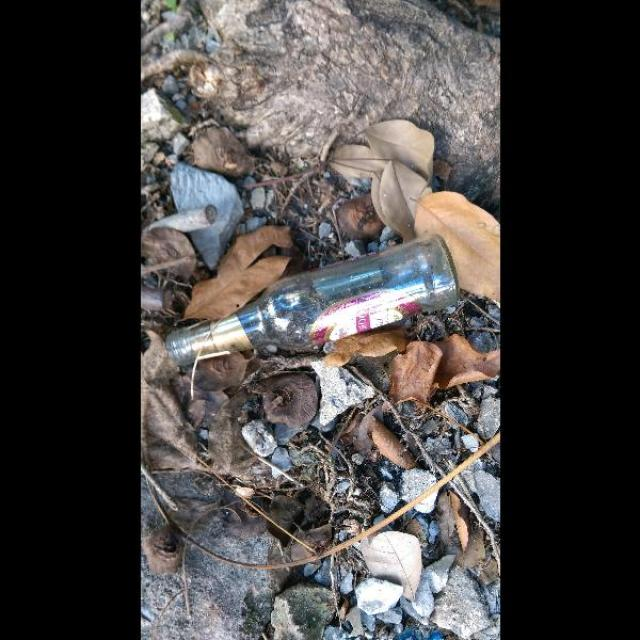others: (149, 232, 477, 374)
